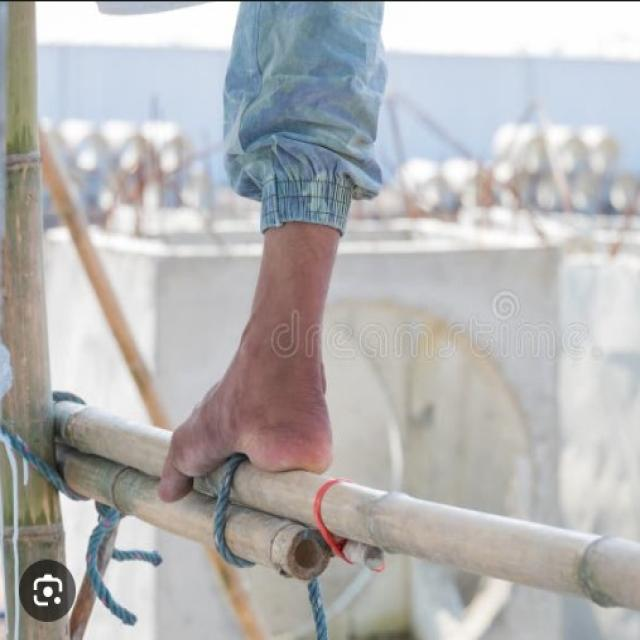Glasses: (176, 171, 407, 614)
